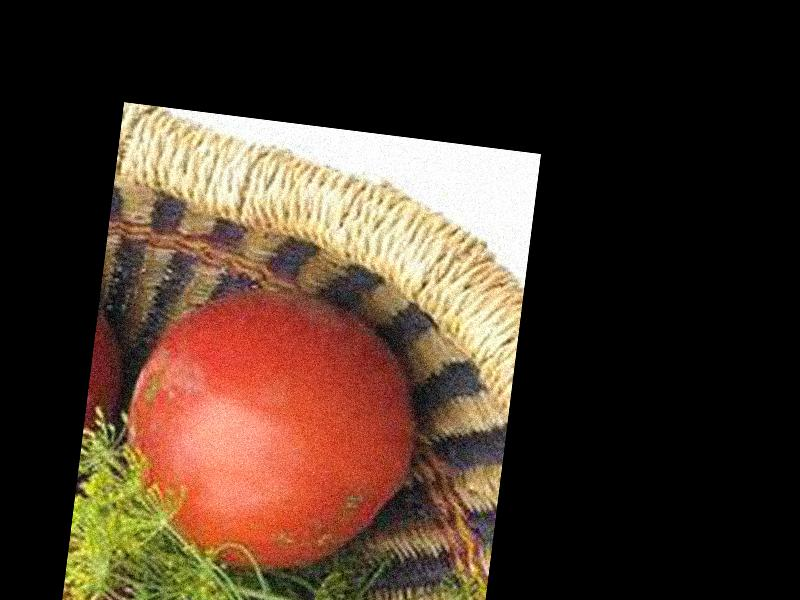Tomato: (110, 274, 427, 588)
